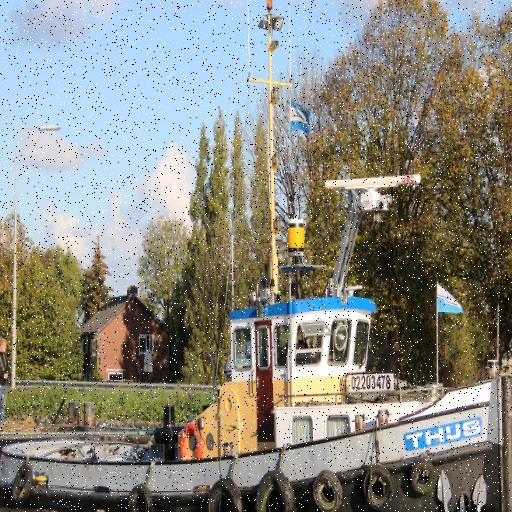tugboat: (1, 173, 512, 512)
